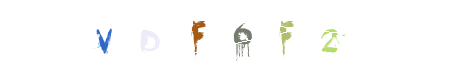2: (252, 0, 332, 80)
6: (192, 0, 272, 80)
D: (157, 0, 237, 80)
F: (189, 0, 269, 80), (202, 0, 282, 80)
V: (64, 0, 144, 80)
